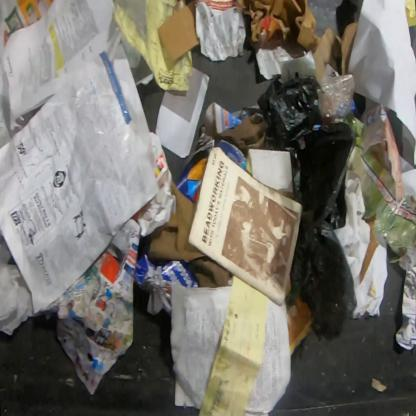cardboard: (345, 103, 416, 264), (235, 0, 360, 78), (148, 182, 230, 288), (158, 0, 200, 63), (218, 113, 270, 159)
soft_plastic: (257, 75, 358, 340), (316, 74, 354, 124)
